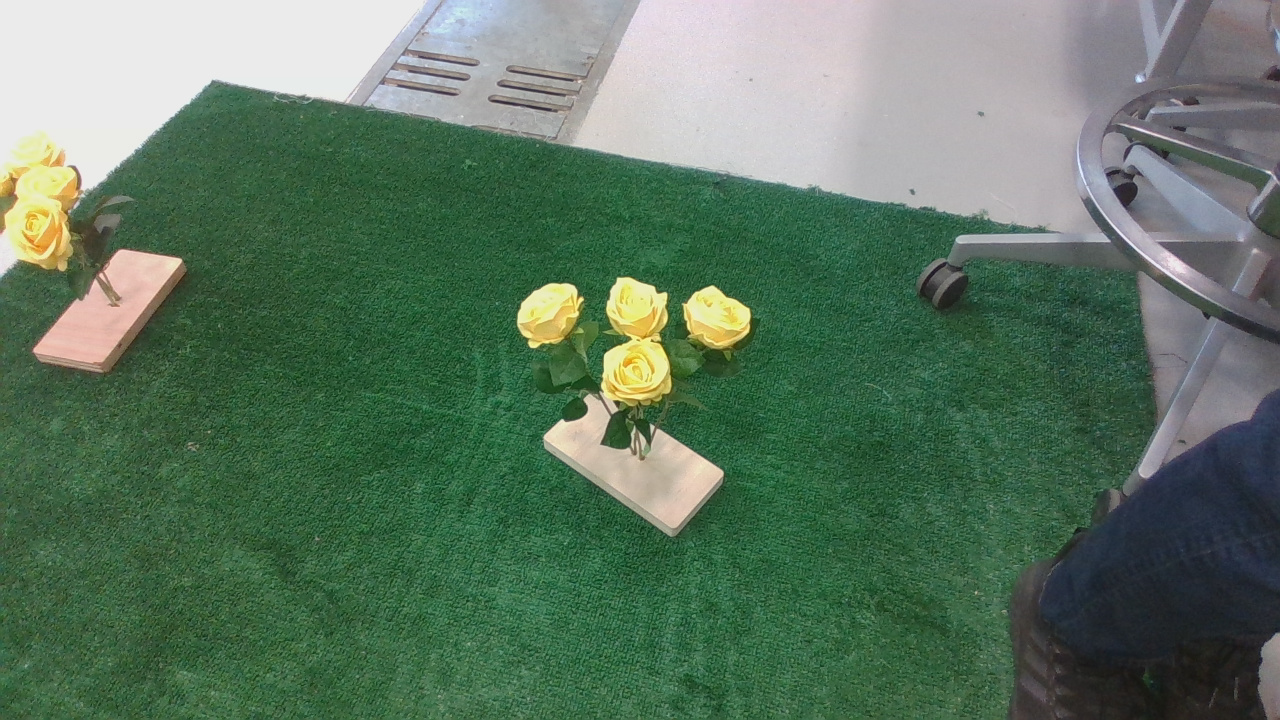rose: (518, 277, 767, 468), (3, 138, 148, 311)
